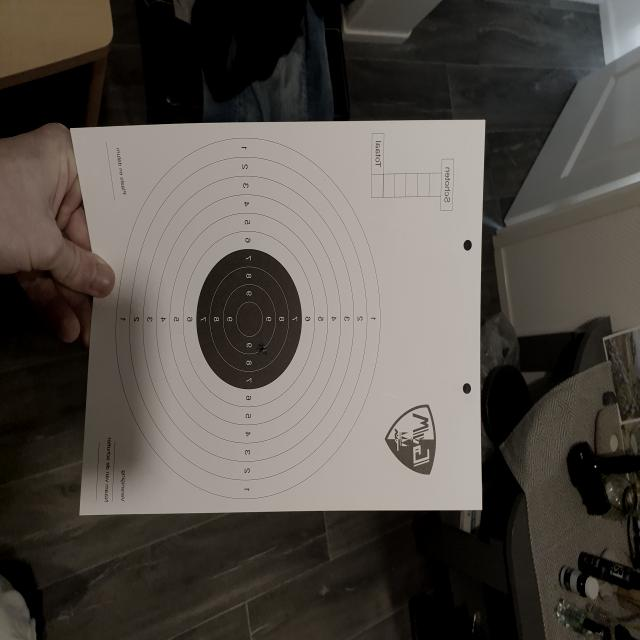9: (257, 342, 268, 356)
Target: (116, 136, 379, 498)
black_contour: (196, 249, 301, 390)
